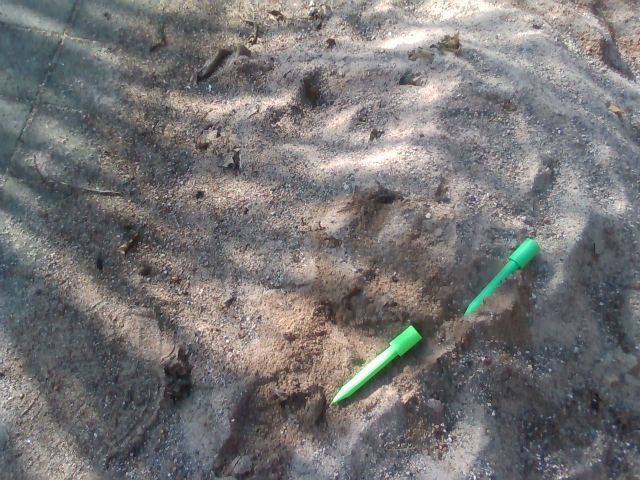Probe: (325, 321, 426, 409), (457, 233, 543, 326)
